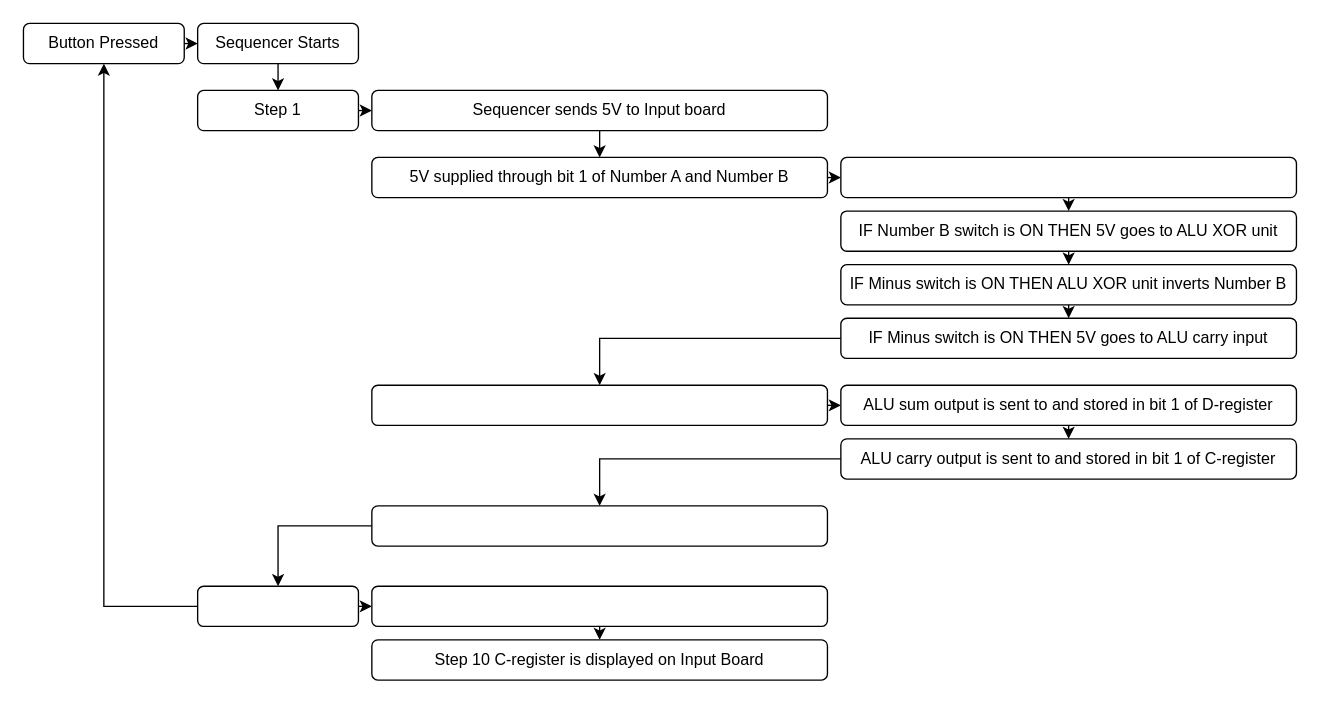
This 1320x704 diagram has some shape labels left out. The centre of each missing label's shape, as x and y in pixels:
ALU adds, carry, Number A and Number B together: the point at 599,404
Content of D-Register is displayed on Input Board: the point at 599,525
IF Number A switch is ON THEN 5V goes directly to ALU: the point at 1068,177
Repeat all Step 1 steps using C-register for carry input: the point at 599,605
Step 2-10: the point at 277,605
